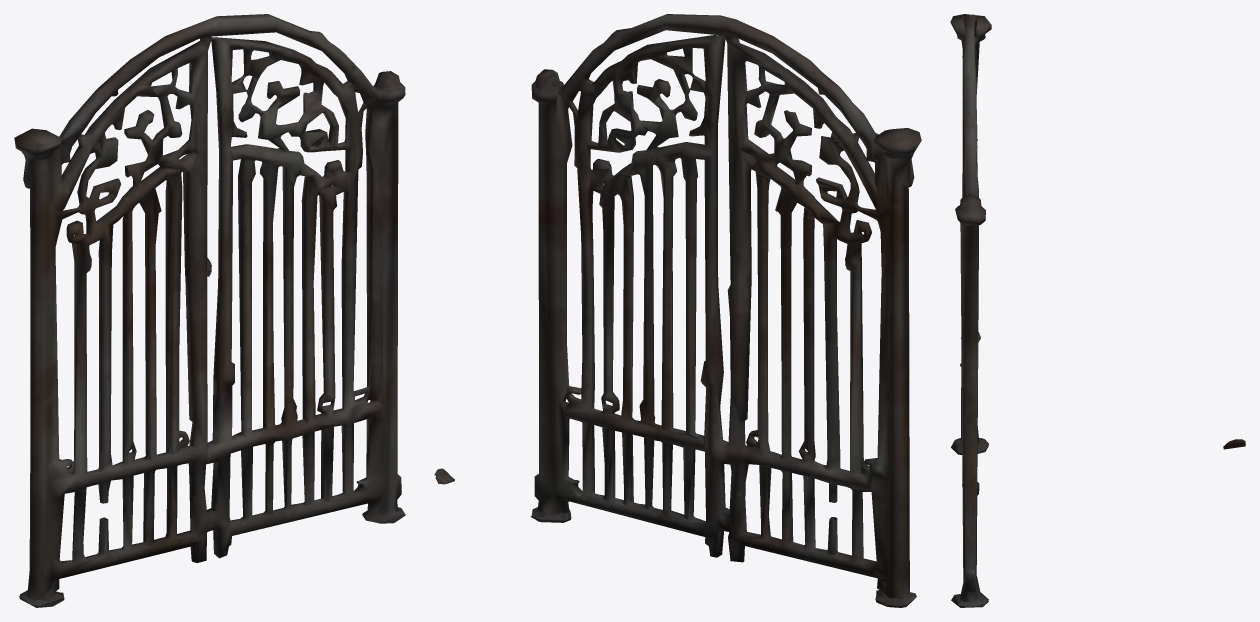
Rendered from old-iron-iron-gate-v001.glb.
3 renders of one model, left to right at view 1: azimuth 30°, elevation 25°; view 2: azimuth 150°, elevation 25°; view 3: azimuth 270°, elevation 25°, orthographic. The views are drawn at different scales.
Parts seen in each view (by area): view 1: old-iron-iron-gate; view 2: old-iron-iron-gate; view 3: old-iron-iron-gate.
Boxes of the visible parts, box(x1,y1,x2,y2) form: old-iron-iron-gate: box(14, 14, 405, 607); old-iron-iron-gate: box(434, 14, 921, 607); old-iron-iron-gate: box(950, 14, 1245, 607).
Size of the model in its own units: 2.01 by 2.71 by 1.46.
Materials: 1 (1 with a texture image).
